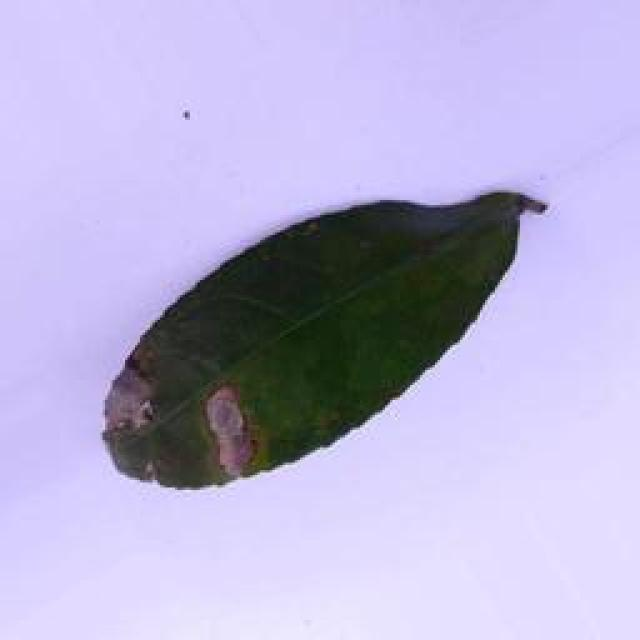Gray Blight: (74, 178, 571, 492)
